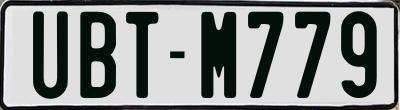7: (295, 11, 332, 100), (248, 10, 285, 97)
9: (338, 9, 377, 102)
B: (80, 10, 117, 97)
M: (201, 11, 238, 101)
T: (124, 10, 158, 100)
U: (33, 9, 73, 103)
